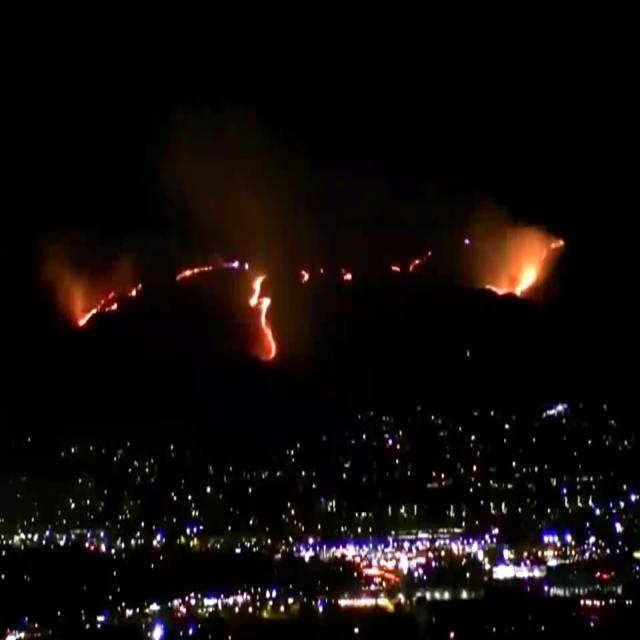Fire: (484, 234, 565, 294), (246, 273, 278, 363), (75, 288, 118, 328), (173, 265, 212, 282), (128, 278, 144, 297), (342, 270, 352, 282), (302, 270, 310, 282)
